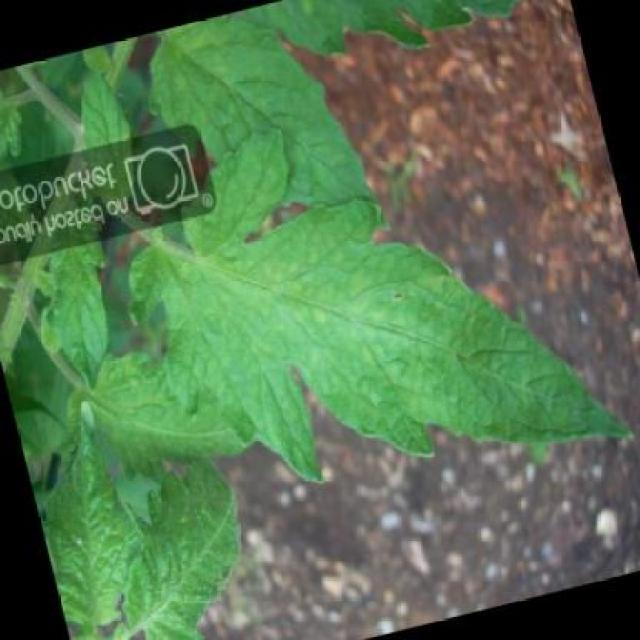Leaf Mold: (112, 130, 626, 555)
